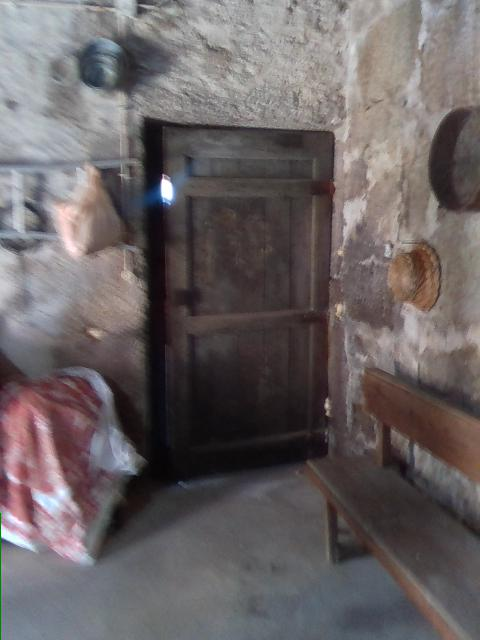door: (145, 115, 333, 489)
